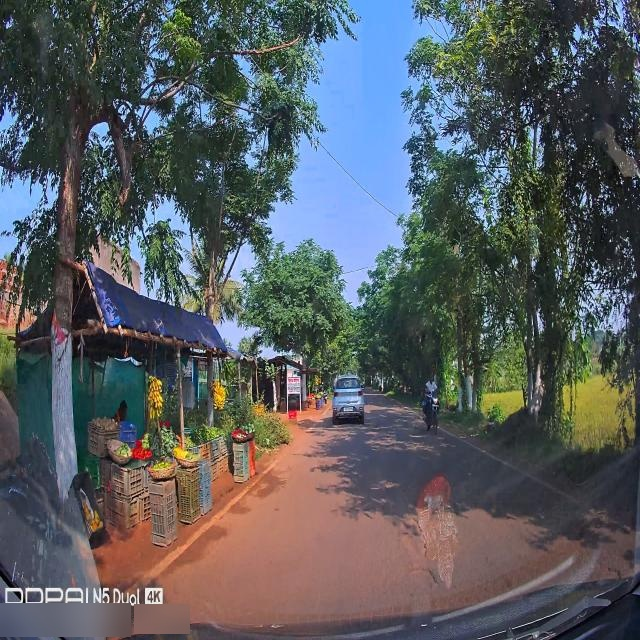pothole: (400, 508, 430, 569), (406, 571, 445, 607)
